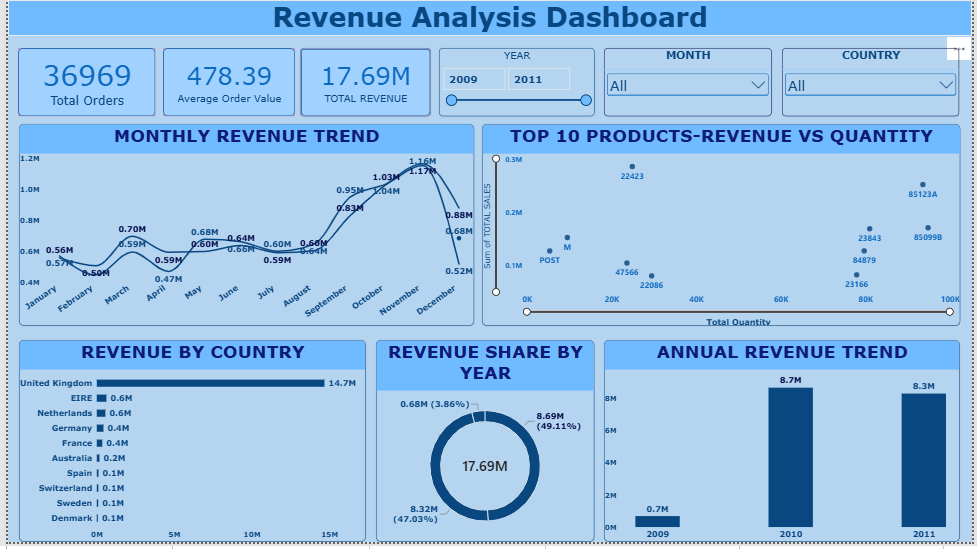

What the dashboard file says about the page in this screenshot:
{"tool":"powerbi","page":{"name":"Revenue Analysis Dashboard","canvas":[1920,1080],"ordinal":7},"visuals":[{"type":"textbox","box":[0,0,1920.7,72.4],"z":0},{"type":"cardVisual","fields":{"Data":["CLEANED.Total Orders"]},"box":[19.8,96.6,274.4,136.1],"z":1000},{"type":"cardVisual","fields":{"Data":["CLEANED.Average Order Value"]},"box":[309.5,96.6,263.4,136.1],"z":2000},{"type":"cardVisual","fields":{"Data":["Sum(CLEANED.TOTAL SALES)"]},"box":[581.7,96.6,261.2,136.1],"z":3000},{"type":"clusteredColumnChart","title":"ANNUAL REVENUE TREND","fields":{"Category":["CLEANED.YEAR"],"Y":["Sum(CLEANED.TOTAL SALES)"]},"box":[1187.6,678.3,709,401.7],"z":4000},{"type":"lineChart","title":"MONTHLY REVENUE TREND","fields":{"Category":["CLEANED.DATE.Variation.Date Hierarchy.Month"],"Series":["CLEANED.YEAR"],"Y":["Sum(CLEANED.TOTAL SALES)"]},"box":[22,248,906.6,401.7],"z":5000},{"type":"barChart","title":"REVENUE BY COUNTRY","fields":{"Category":["CLEANED.Country"],"Y":["Sum(CLEANED.TOTAL SALES)"]},"box":[22,678.3,691.5,401.7],"z":6000},{"type":"donutChart","title":"REVENUE SHARE BY YEAR","fields":{"Category":["CLEANED.YEAR"],"Y":["Sum(CLEANED.TOTAL SALES)"]},"box":[733.2,678.3,434.6,401.7],"z":7000},{"type":"scatterChart","title":"TOP 10 PRODUCTS-REVENUE VS QUANTITY","fields":{"Category":["CLEANED.StockCode"],"X":["CLEANED.Total Quantity"],"Y":["Sum(CLEANED.TOTAL SALES)"]},"box":[943.9,248,952.7,401.7],"z":8000},{"type":"slicer","title":"YEAR","fields":{"Values":["CLEANED.YEAR"]},"box":[858.3,96.6,309.5,136.1],"z":9000},{"type":"slicer","title":"MONTH","fields":{"Values":["CLEANED.MONTH"]},"box":[1187.6,96.6,333.7,136.1],"z":10000},{"type":"slicer","title":"COUNTRY","fields":{"Values":["CLEANED.Country"]},"box":[1543.2,96.6,353.4,136.1],"z":11000}]}

Visuals, with their boxes in screenshot pixels (x1, y1, x2, y2), scaled from the page's 1920x1080 canvas onto the 977x549 screenshot:
textbox: region(0, 0, 976, 37)
cardVisual - CLEANED.Total Orders: region(10, 49, 150, 118)
cardVisual - CLEANED.Average Order Value: region(157, 49, 292, 118)
cardVisual - Sum(CLEANED.TOTAL SALES): region(296, 49, 429, 118)
"ANNUAL REVENUE TREND" clusteredColumnChart: region(604, 345, 965, 548)
"MONTHLY REVENUE TREND" lineChart: region(11, 126, 473, 330)
"REVENUE BY COUNTRY" barChart: region(11, 345, 363, 548)
"REVENUE SHARE BY YEAR" donutChart: region(373, 345, 594, 548)
"TOP 10 PRODUCTS-REVENUE VS QUANTITY" scatterChart: region(480, 126, 965, 330)
"YEAR" slicer: region(437, 49, 594, 118)
"MONTH" slicer: region(604, 49, 774, 118)
"COUNTRY" slicer: region(785, 49, 965, 118)
